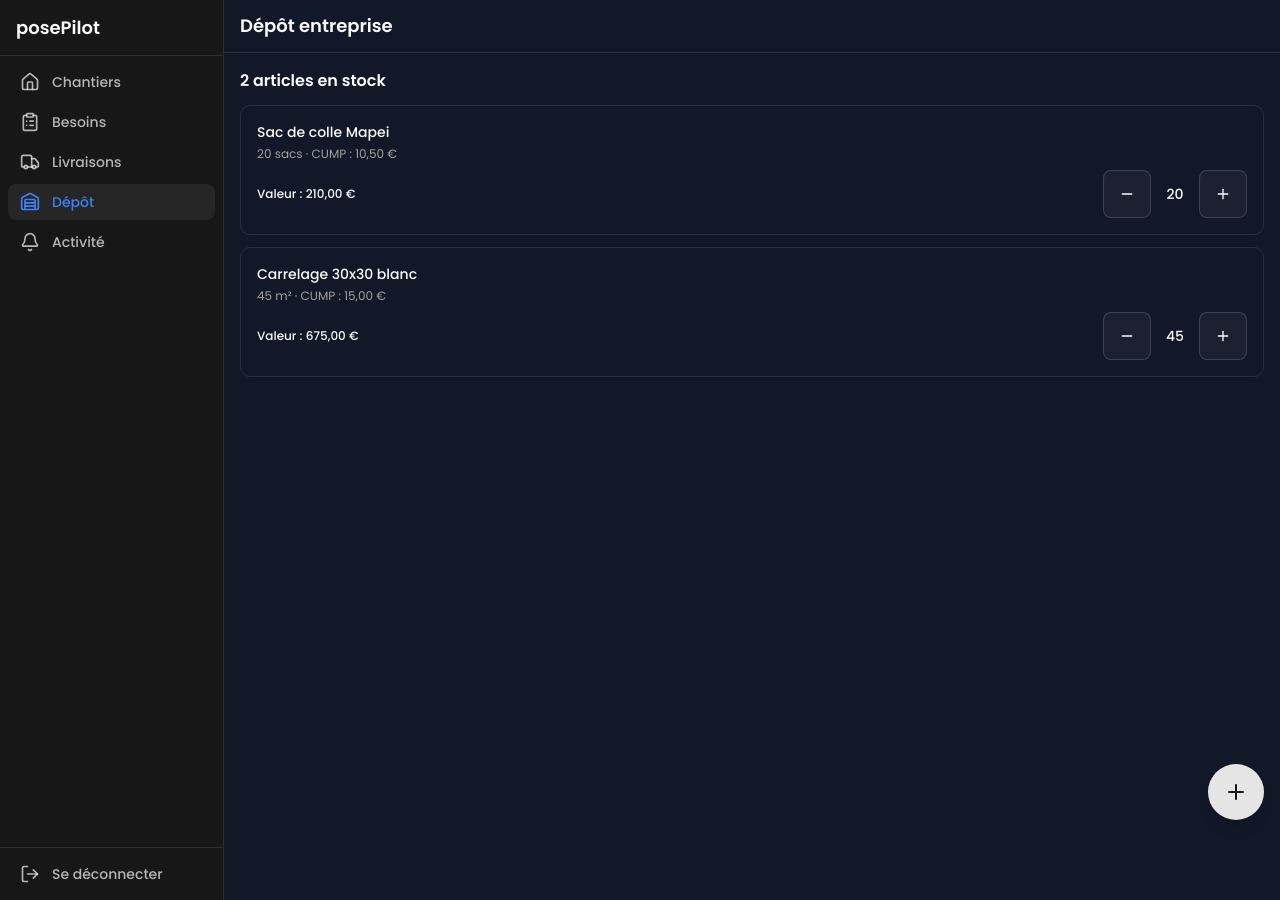
Scenario: DepotPage › opens transfer sheet from detail sheet (AC #2)
Expected: the text "Sac de colle Mapei" is shown, [257,122,389,142]
Step 1. Click the button with aria-label "Détail Sac de colle Mapei" → click(323, 132), box [240,105,1264,235]
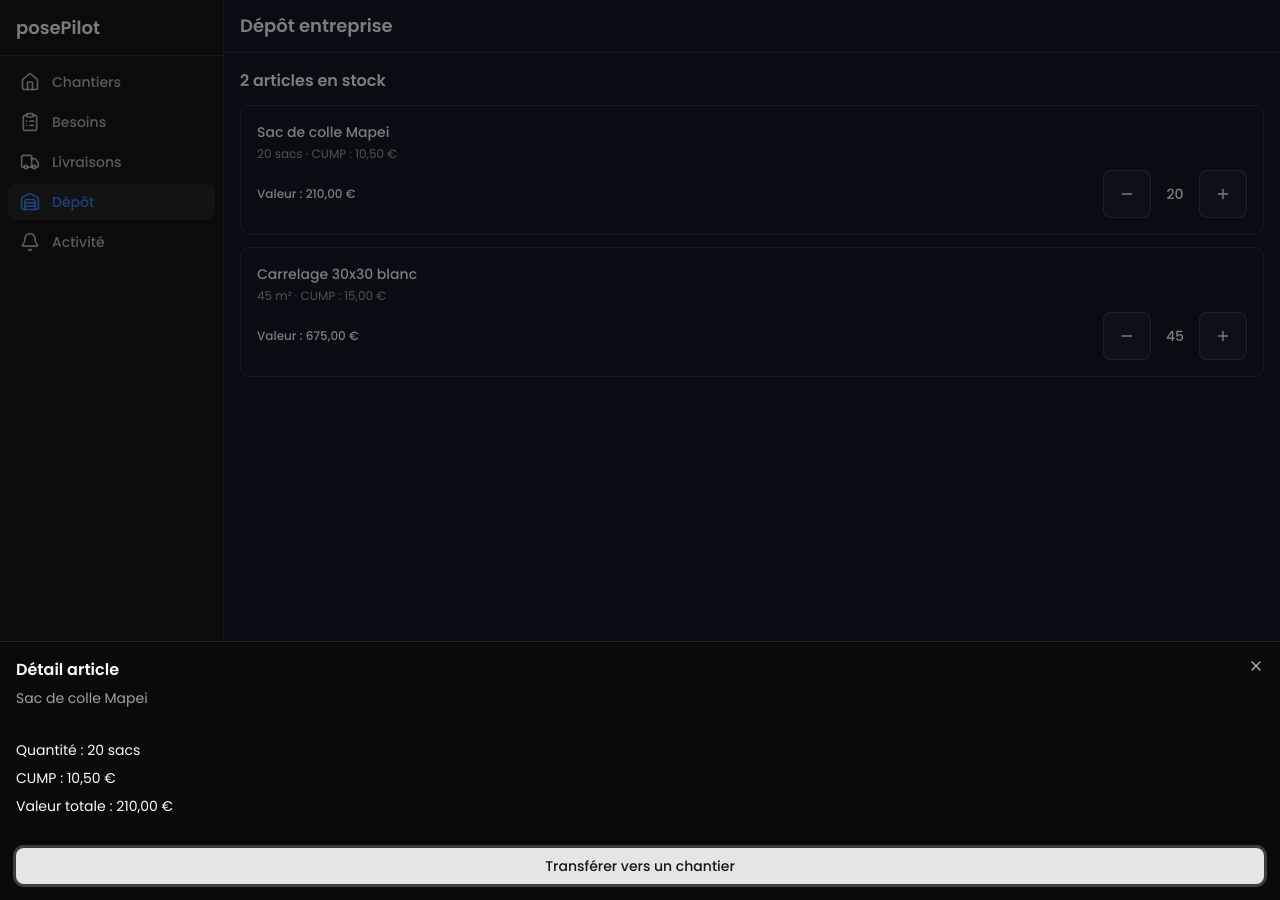
Expected: the heading "Détail article" is shown, [16,658,119,681]
Step 2. Click the button "Transférer vers un chantier" → click(640, 866), box [16,848,1264,884]
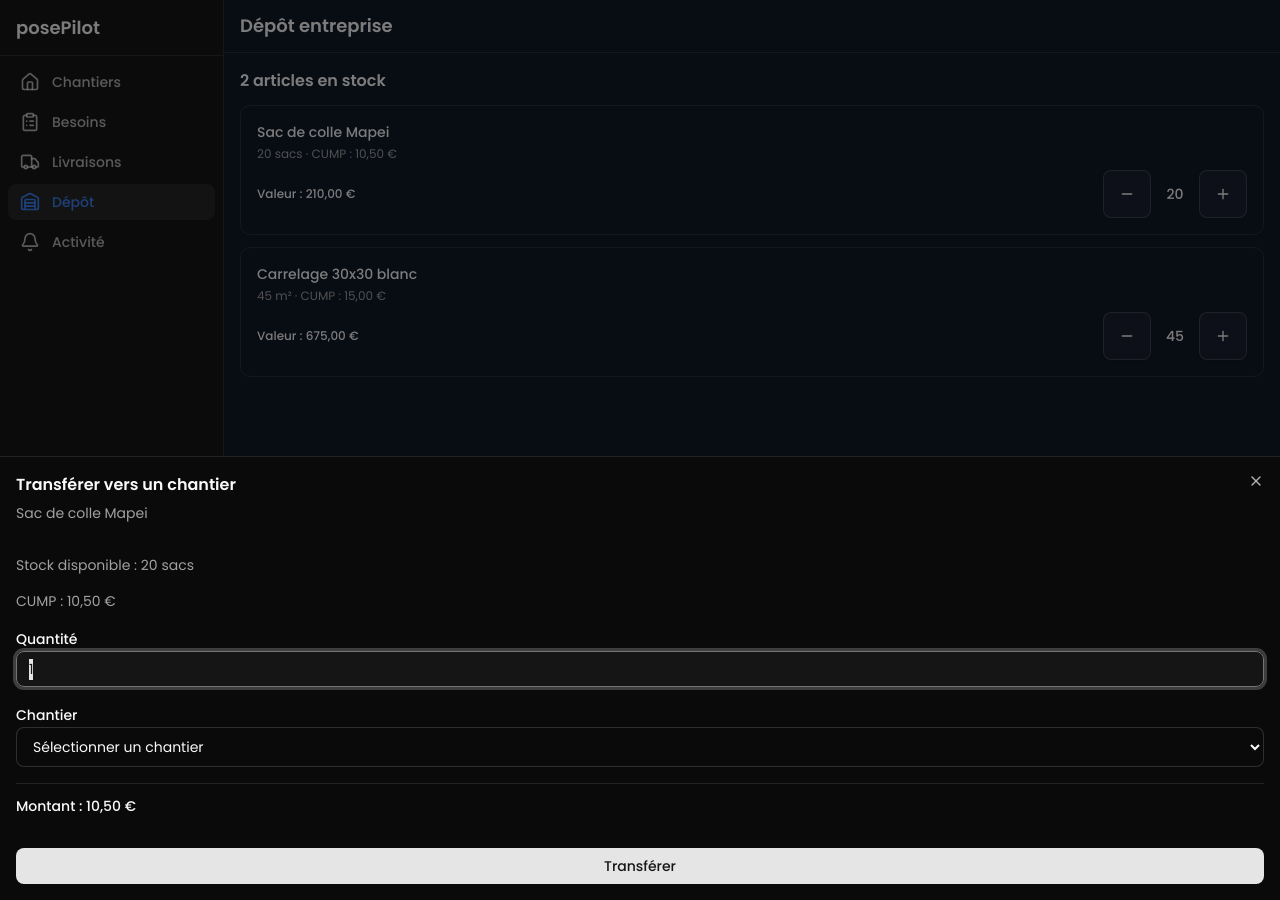
Expected: the field labelled "Quantité" is shown, [16,651,1264,687]
Expected: the dropdown labelled "Chantier" is shown, [16,727,1264,767]
Expected: the text "Stock disponible : 20 sacs" is shown, [16,555,194,575]
